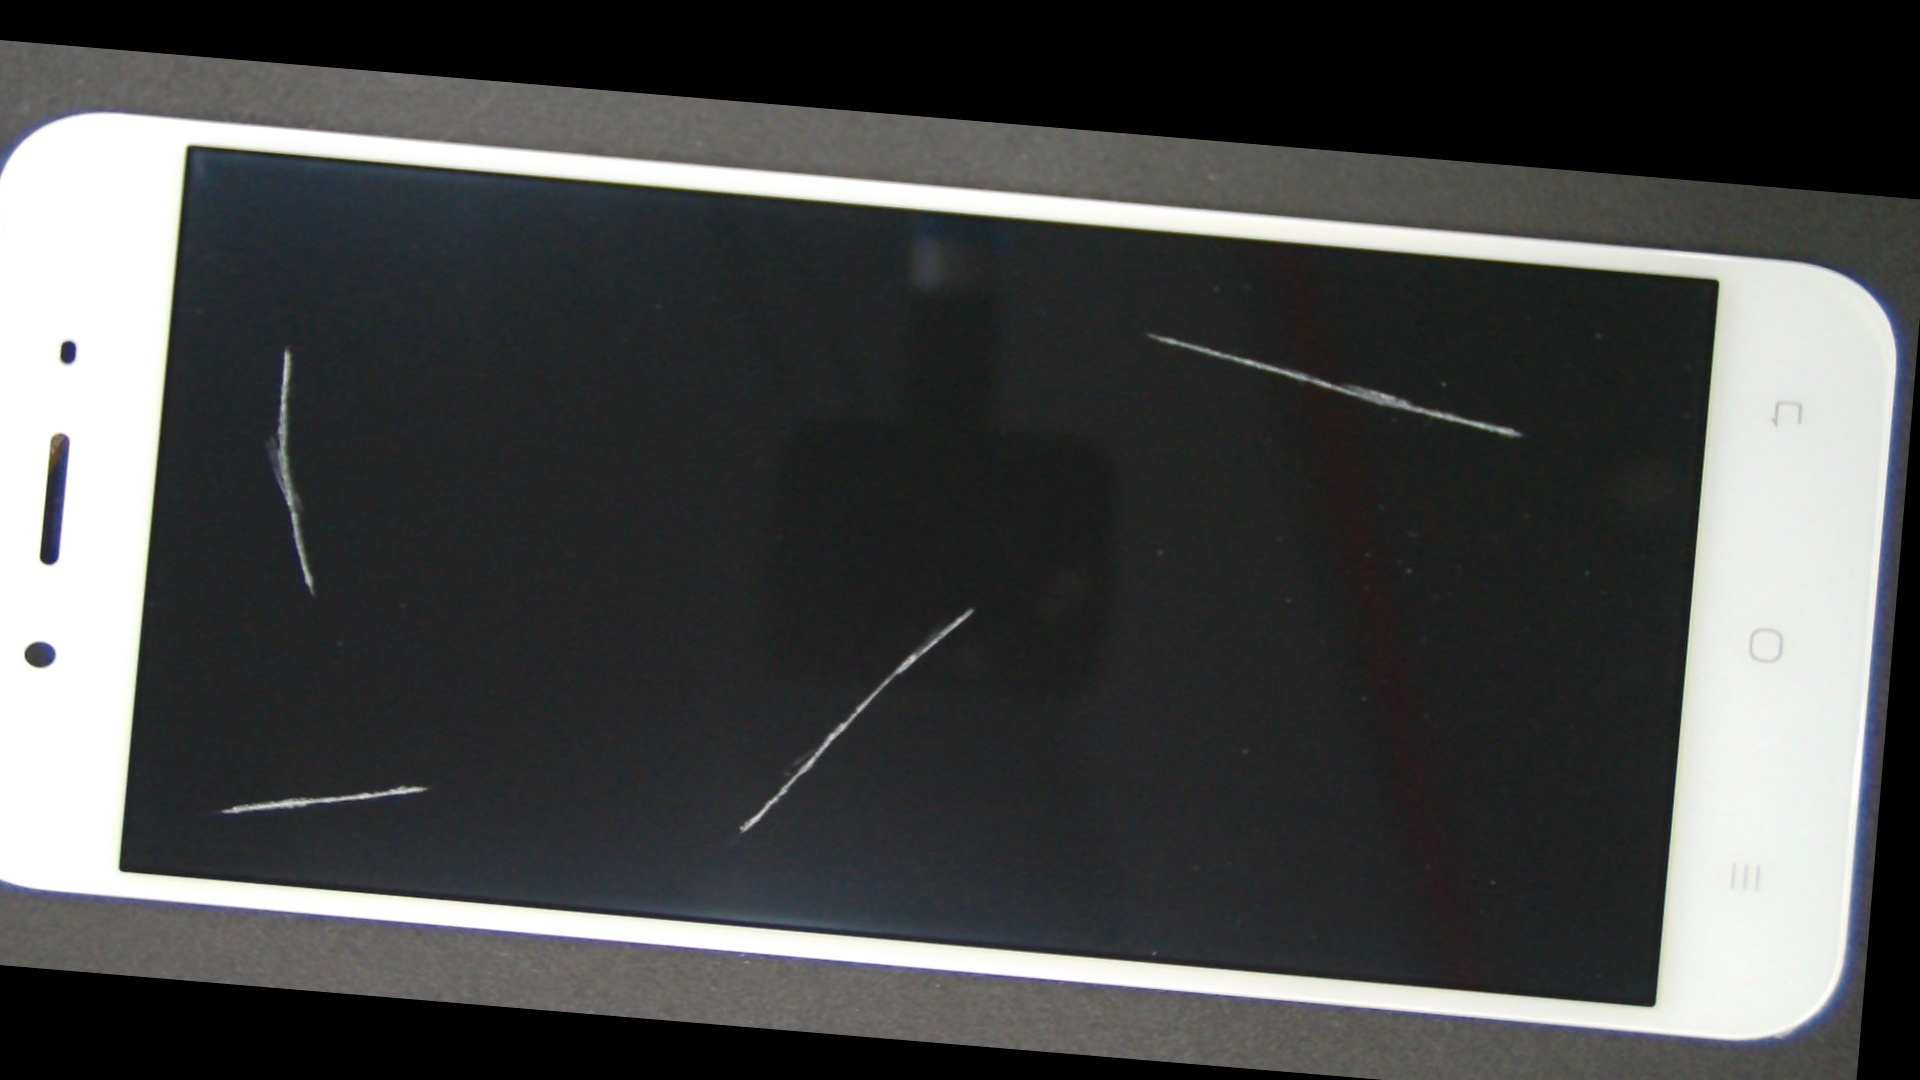oil: (440, 323, 1505, 891), (554, 185, 1747, 479), (158, 411, 696, 1019), (113, 191, 456, 501)
